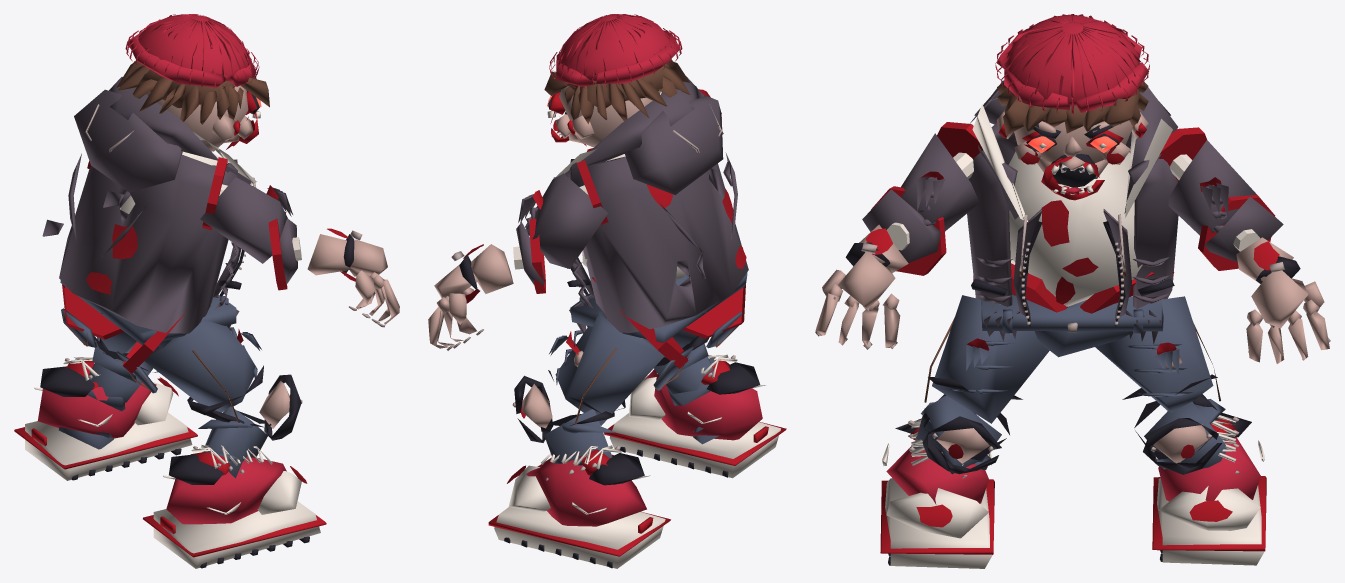
The model's file is inf.skater.lod1.glb.
3 views of the same model, side by side, from view 1: azimuth 30°, elevation 25°; view 2: azimuth 150°, elevation 25°; view 3: azimuth 270°, elevation 25° (orthographic). The views are drawn at different scales.
Visible parts, largest first — view 1: torso, footR, head, footL, legR, shinR, armR, shinL, handR, foreArmR, hip, stump_legL (+4 smaller); view 2: torso, footL, head, footR, legL, armL, shinL, foreArmL, handL, shinR, hip, stump_legR (+4 smaller); view 3: torso, head, footL, footR, legR, legL, hip, shinL, handL, shinR, handR, armL (+9 smaller).
Boxes of the visible parts, x1,y1,x2,y2 form: torso: [42, 77, 256, 333]; footR: [143, 445, 326, 568]; head: [116, 14, 269, 151]; footL: [14, 357, 197, 480]; legR: [116, 306, 263, 422]; shinR: [198, 374, 302, 478]; armR: [200, 177, 292, 263]; shinL: [58, 337, 158, 449]; handR: [340, 239, 399, 327]; foreArmR: [280, 218, 362, 288]; hip: [60, 280, 236, 347]; stump_legL: [62, 284, 124, 339]; torso: [553, 76, 748, 333]; footL: [488, 445, 670, 568]; head: [544, 14, 690, 147]; footR: [604, 354, 786, 478]; legL: [548, 310, 693, 425]; armL: [518, 173, 608, 268]; shinL: [512, 375, 615, 465]; foreArmL: [451, 222, 544, 293]; handL: [428, 264, 483, 350]; shinR: [654, 336, 719, 444]; hip: [570, 272, 747, 342]; stump_legR: [682, 285, 745, 338]; torso: [967, 80, 1178, 343]; head: [995, 14, 1149, 200]; footL: [1152, 413, 1266, 565]; footR: [880, 418, 994, 568]; legR: [924, 295, 1049, 423]; legL: [1095, 296, 1220, 412]; hip: [981, 293, 1163, 357]; shinL: [1134, 394, 1230, 486]; handL: [1246, 270, 1330, 363]; shinR: [914, 394, 1009, 474]; handR: [815, 252, 900, 349]; armL: [1168, 140, 1258, 235].
Bounding box in the file's own units: 0.7007 × 1.42 × 1.27.
